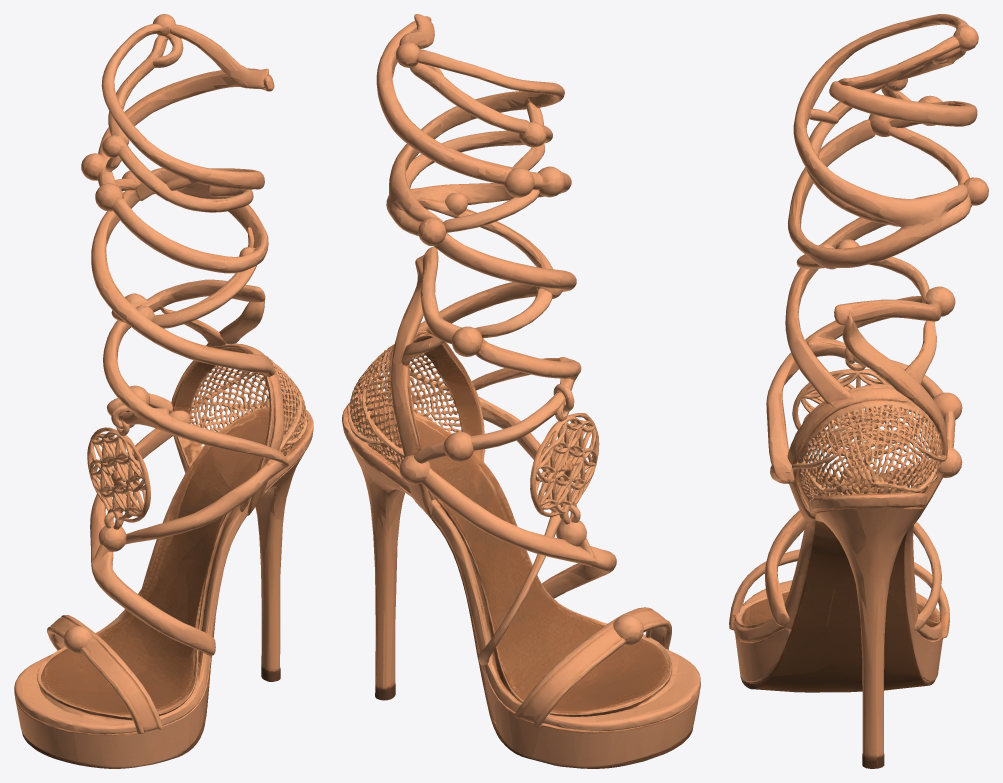
The picture shows the model from 3 angles, left to right: view 1: azimuth 30°, elevation 25°; view 2: azimuth 150°, elevation 25°; view 3: azimuth 270°, elevation 25°; orthographic projection. The views are drawn at different scales.
Visible parts, largest first — view 1: Mesh_0; view 2: Mesh_0; view 3: Mesh_0.
Boxes of the visible parts, x1,y1,x2,y2 form: Mesh_0: (14, 14, 313, 768); Mesh_0: (342, 14, 700, 768); Mesh_0: (729, 14, 988, 768).
Size of the model in its own units: 0.9036 by 1.9 by 0.6359.
1 material, 1 textured.
